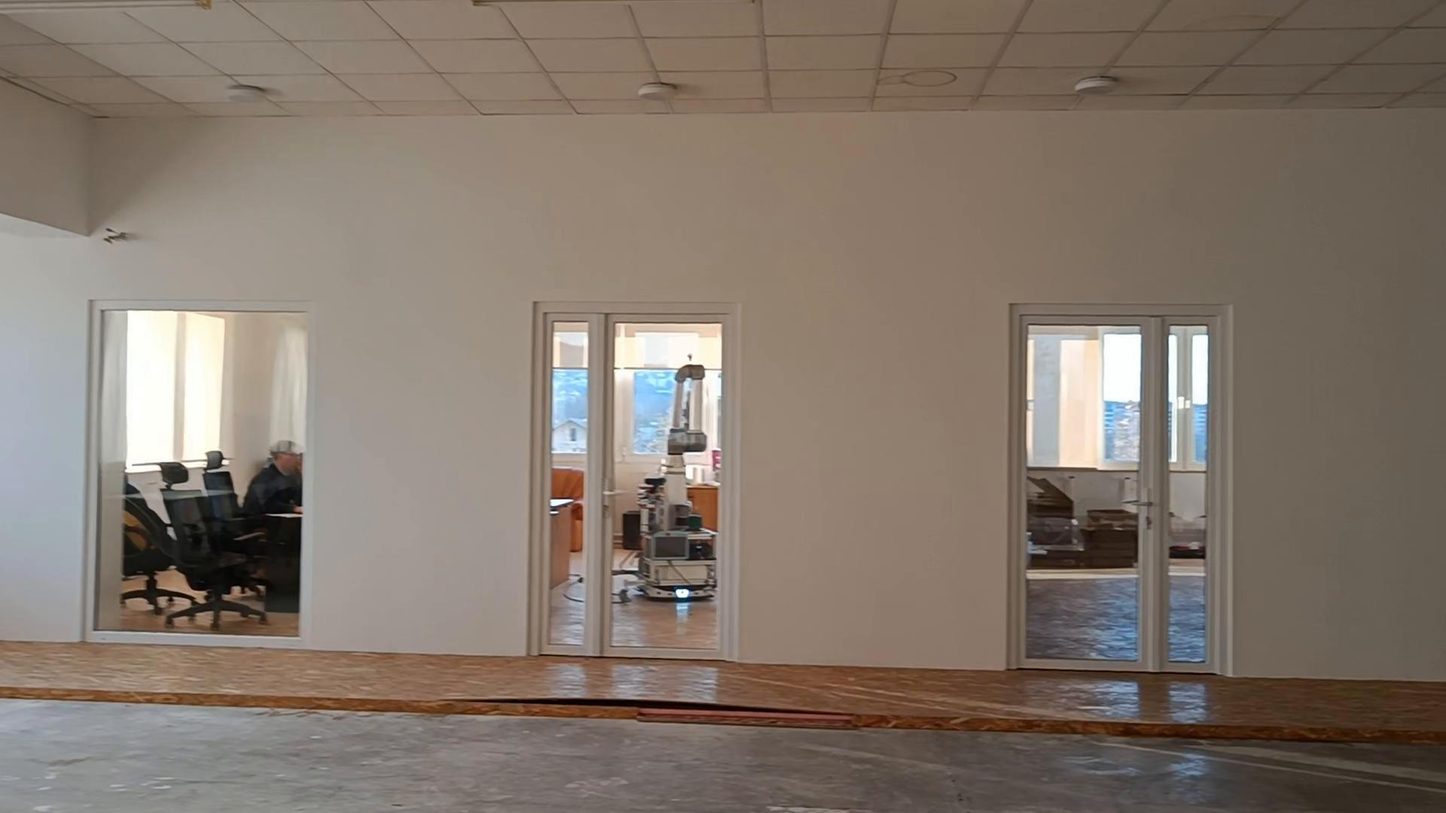ceiling: (0, 0, 1445, 117)
floor: (0, 642, 1445, 812)
wall: (0, 89, 1442, 678)
